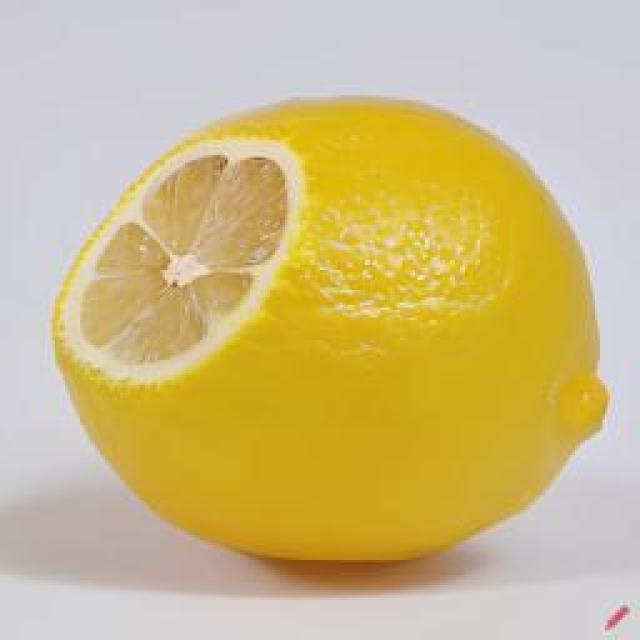Lemon: (50, 94, 612, 568)
